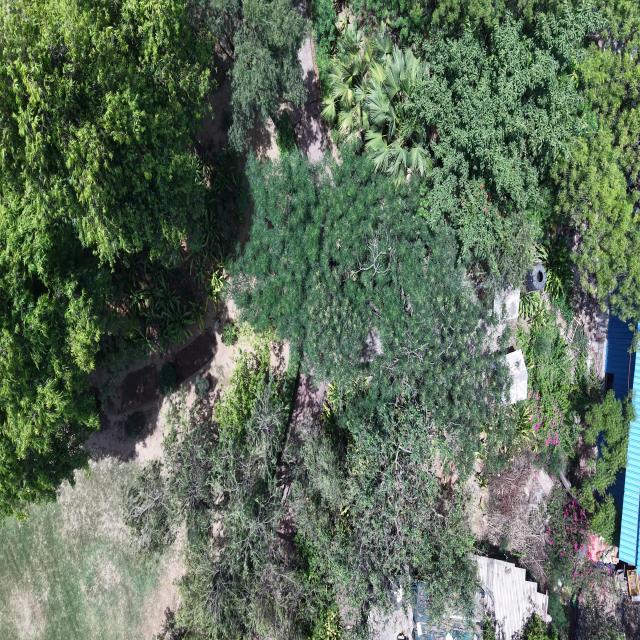DRY_AREA: (0, 307, 237, 639), (0, 306, 234, 639), (0, 308, 235, 639), (0, 458, 181, 639), (86, 306, 235, 465), (86, 304, 234, 464), (86, 304, 234, 463), (466, 456, 559, 588), (287, 35, 329, 162), (248, 118, 279, 160)
ROOFTOP_BUILDING: (413, 556, 550, 639), (605, 316, 639, 565), (475, 556, 548, 639), (604, 315, 635, 401), (605, 315, 636, 399), (489, 289, 520, 350)
VEGETATION_TREE: (0, 0, 639, 639), (168, 2, 637, 637), (232, 12, 609, 634), (233, 147, 610, 618), (166, 149, 515, 637), (232, 148, 515, 624), (0, 0, 239, 514), (137, 339, 515, 637), (0, 0, 211, 514), (125, 336, 474, 637), (313, 0, 639, 321), (232, 149, 510, 464), (323, 8, 597, 281), (126, 336, 316, 638), (0, 0, 211, 265), (409, 10, 592, 282), (167, 342, 314, 638), (291, 390, 476, 622), (517, 307, 633, 636), (0, 459, 172, 639), (554, 0, 639, 322), (517, 309, 633, 543), (112, 149, 242, 350), (189, 0, 305, 150), (322, 28, 431, 185), (349, 0, 632, 45), (517, 311, 592, 470), (546, 487, 623, 639), (229, 0, 306, 149), (581, 391, 634, 543), (124, 461, 174, 553), (547, 488, 589, 583), (353, 0, 442, 43), (537, 237, 573, 316), (309, 0, 339, 89), (576, 597, 637, 639), (590, 493, 618, 544), (519, 291, 548, 328), (522, 614, 558, 639), (276, 110, 296, 153), (523, 615, 557, 639), (123, 411, 145, 438), (159, 363, 176, 395), (222, 321, 238, 346), (195, 375, 211, 397), (482, 614, 495, 639)
